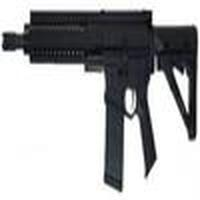gun: (1, 13, 197, 128)
